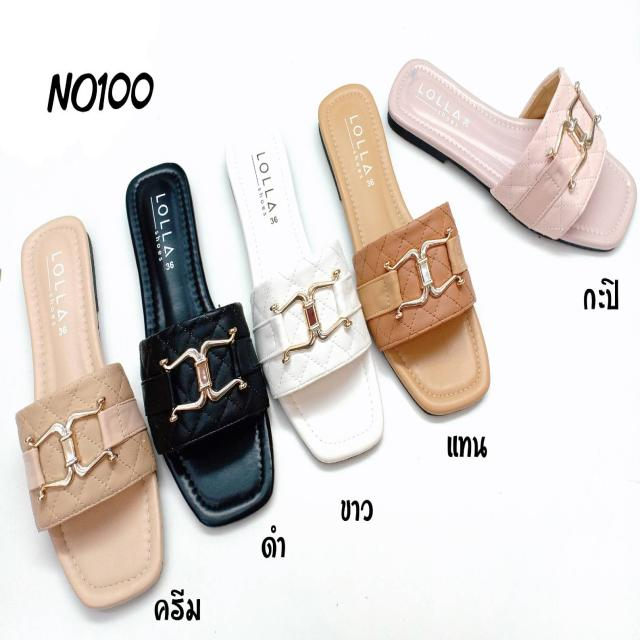black: (129, 160, 275, 516)
cream: (29, 219, 160, 602)
kapi: (391, 59, 640, 258)
tan: (322, 96, 486, 409)
white: (227, 125, 377, 468)
